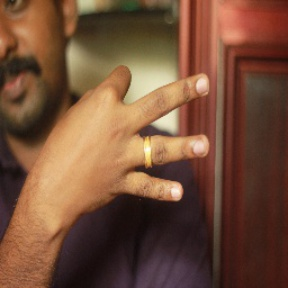K: (47, 63, 218, 215)
